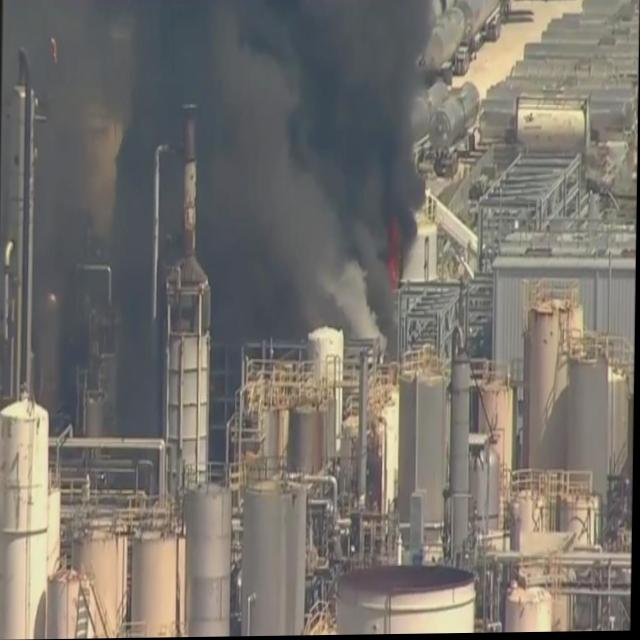fire: (387, 214, 403, 289)
